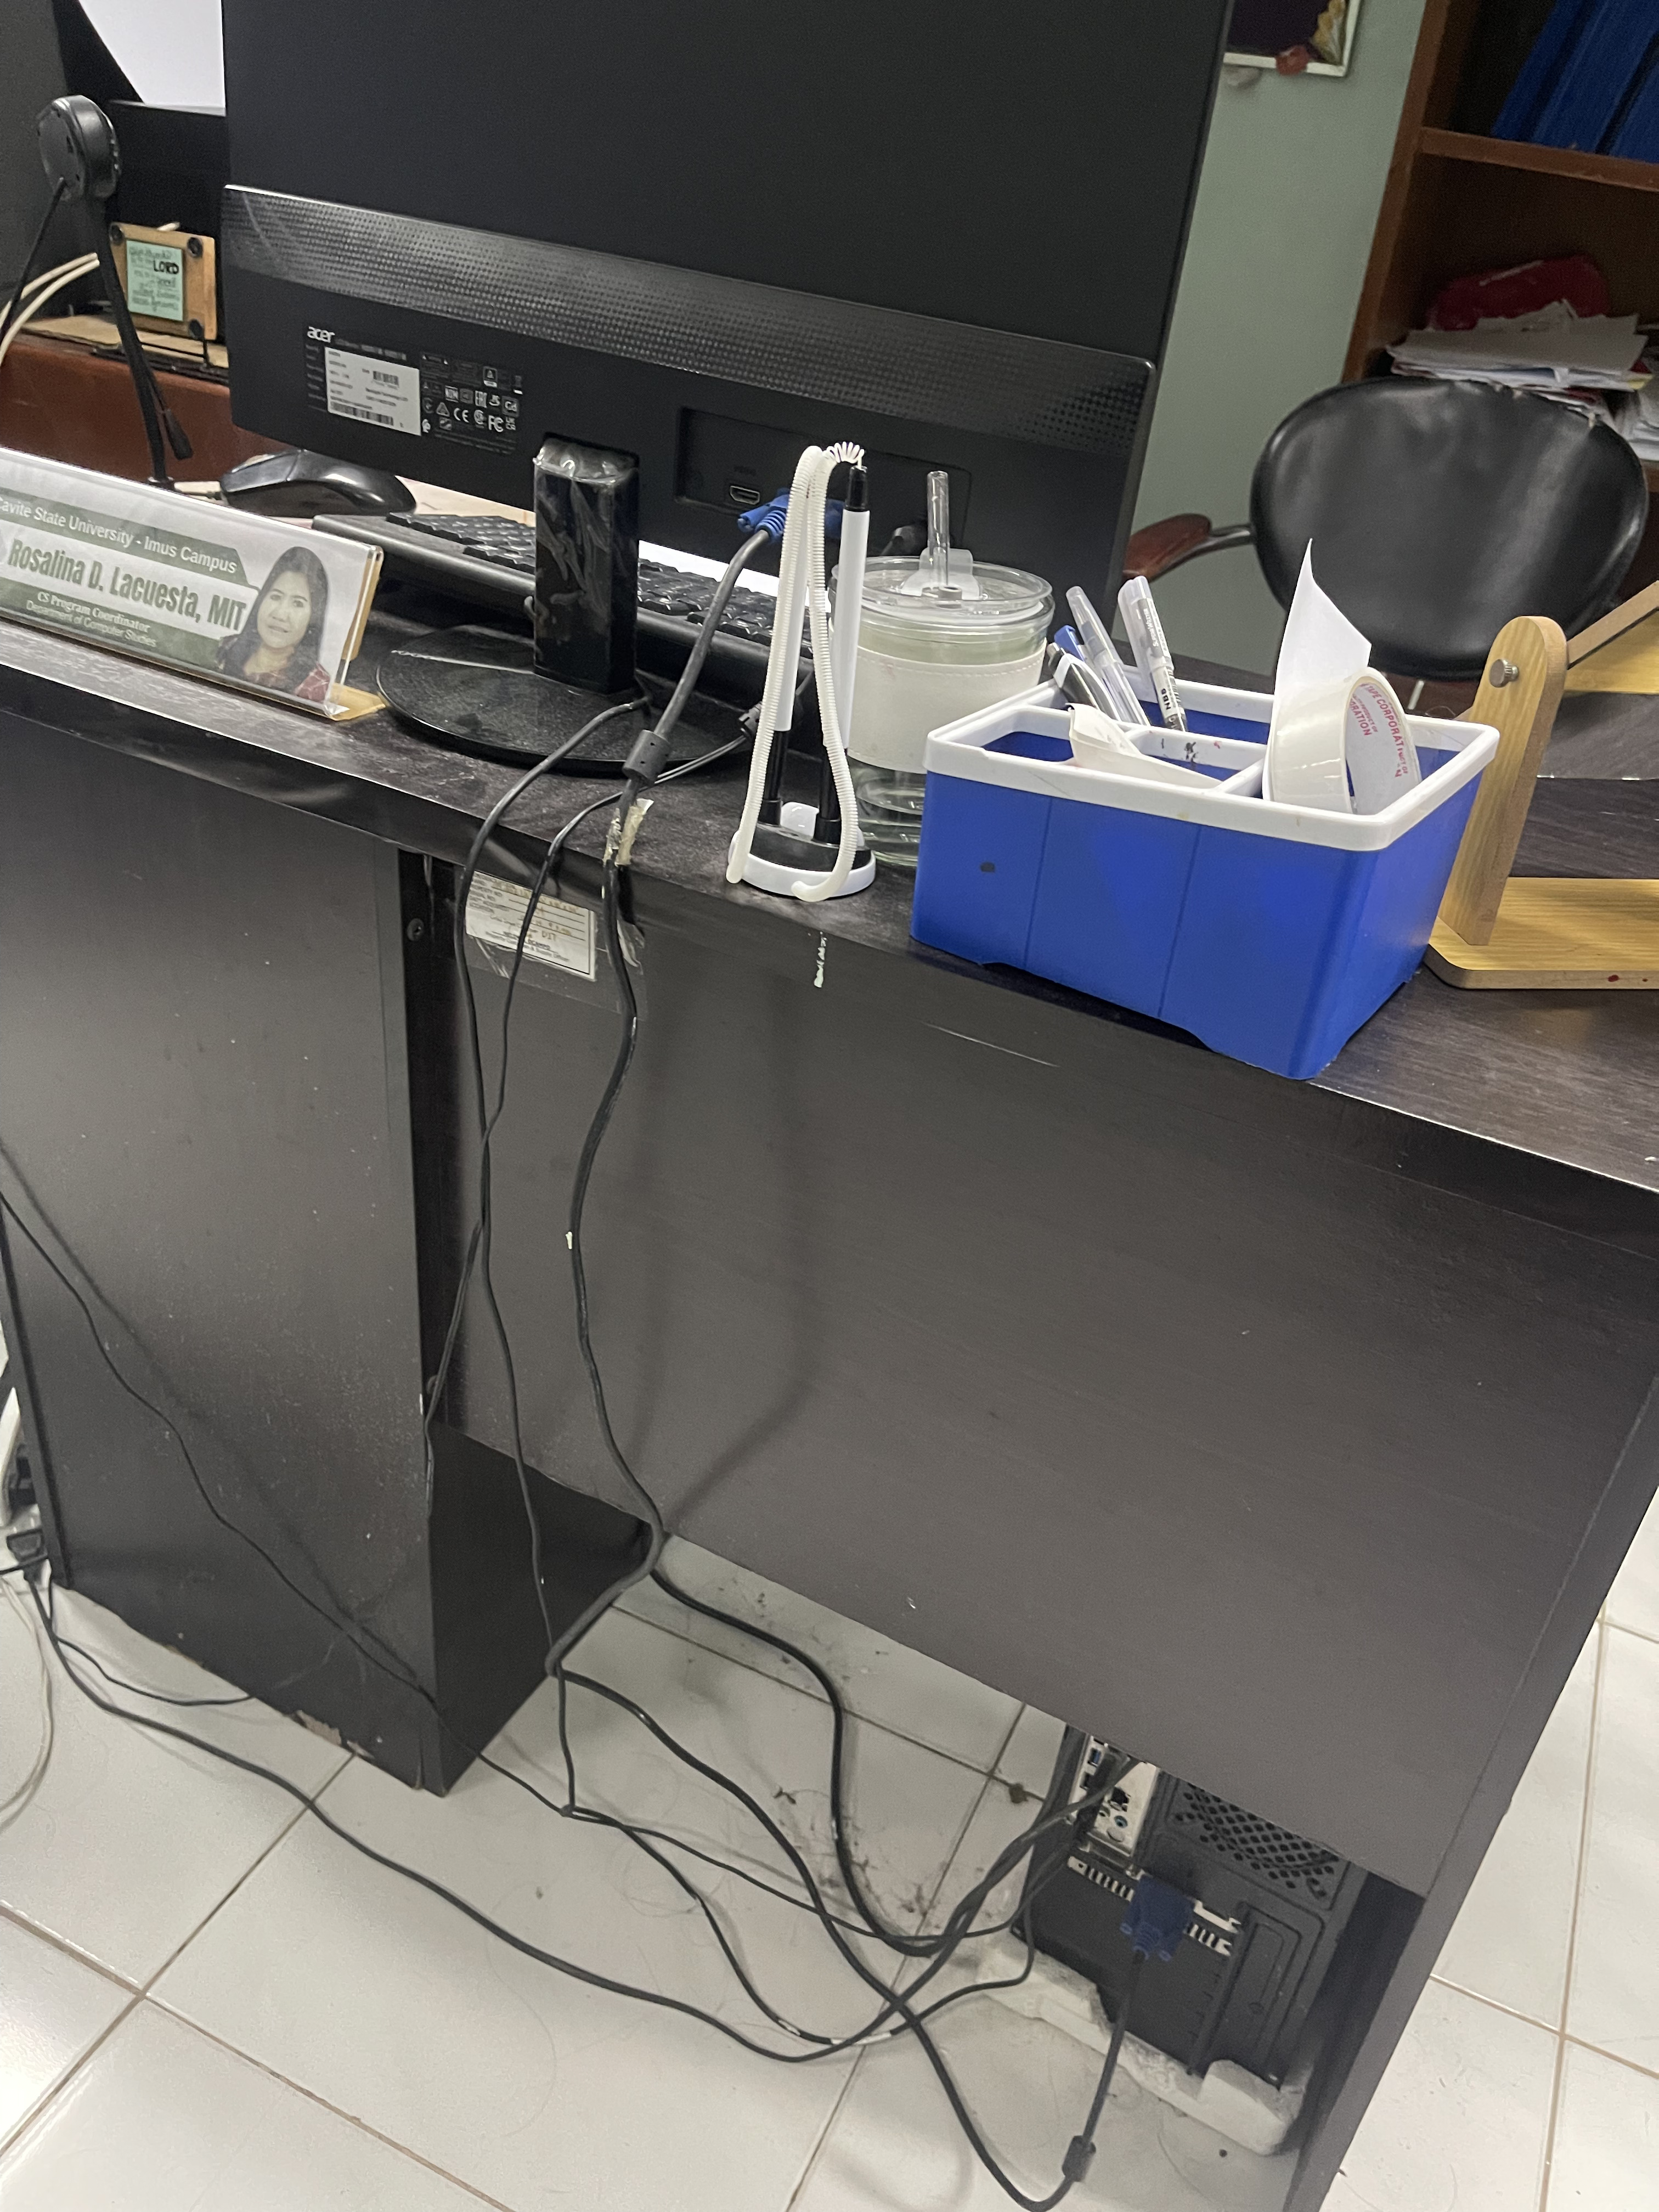table1: (3, 601, 1659, 2155)
